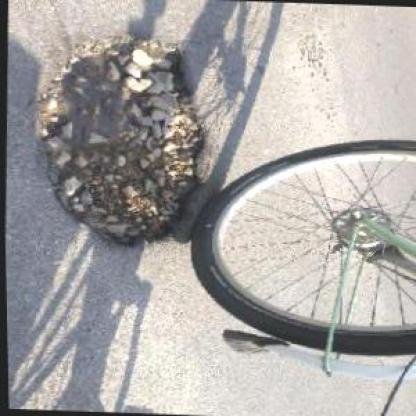pothole: (31, 33, 214, 254)
